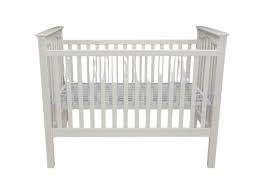crib: (37, 26, 226, 166)
